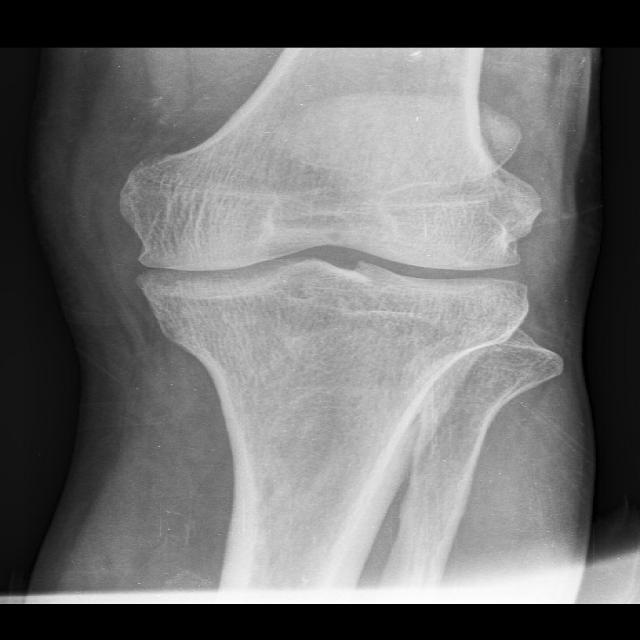osteo: (116, 145, 546, 345)
